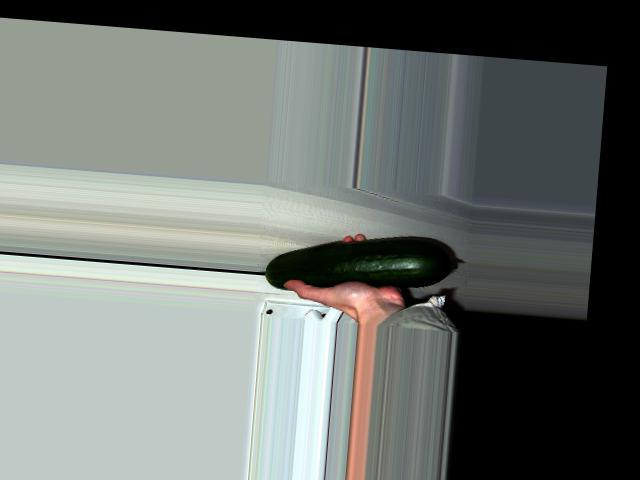cucumber: (264, 224, 459, 302)
